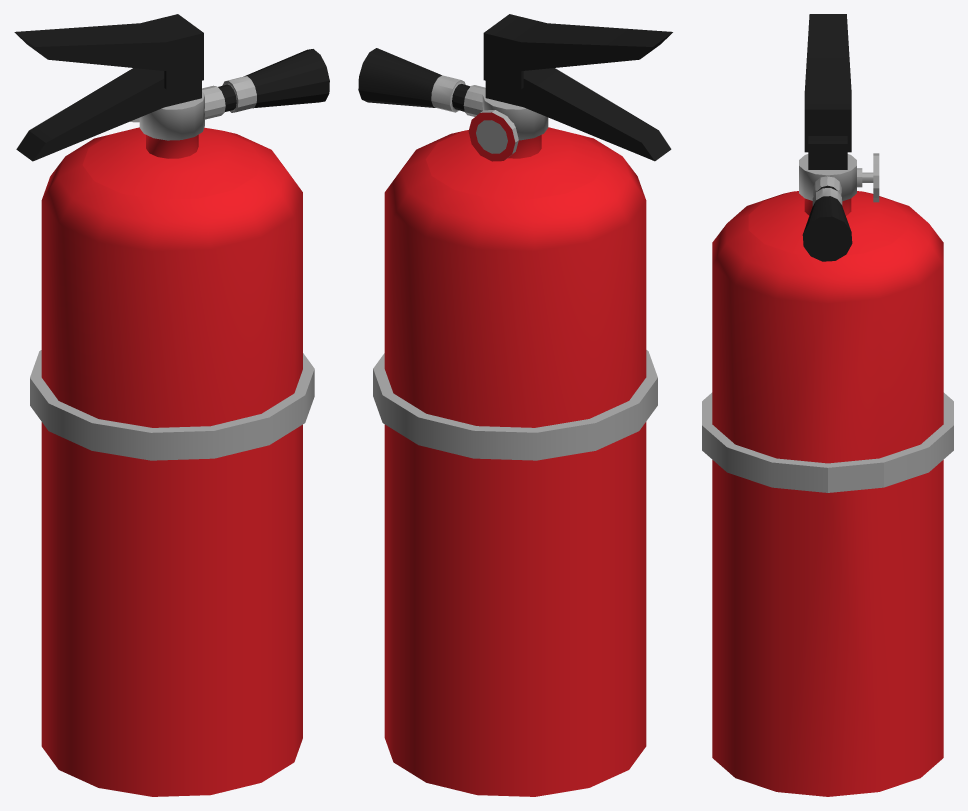
The model's file is NewFireExtinguisher.fbx.
The picture shows the model from 3 angles, left to right: view 1: azimuth 30°, elevation 25°; view 2: azimuth 150°, elevation 25°; view 3: azimuth 270°, elevation 25°; orthographic projection. The views are drawn at different scales.
Parts seen in each view (by area): view 1: FireExtinguisher; view 2: FireExtinguisher; view 3: FireExtinguisher.
Part boxes in pixels (box(x1,y1,x2,y2)): FireExtinguisher: box(14, 14, 329, 796); FireExtinguisher: box(358, 14, 672, 796); FireExtinguisher: box(702, 14, 953, 796).
Bounding box in the file's own units: 0.1955 × 0.4735 × 0.1618.
